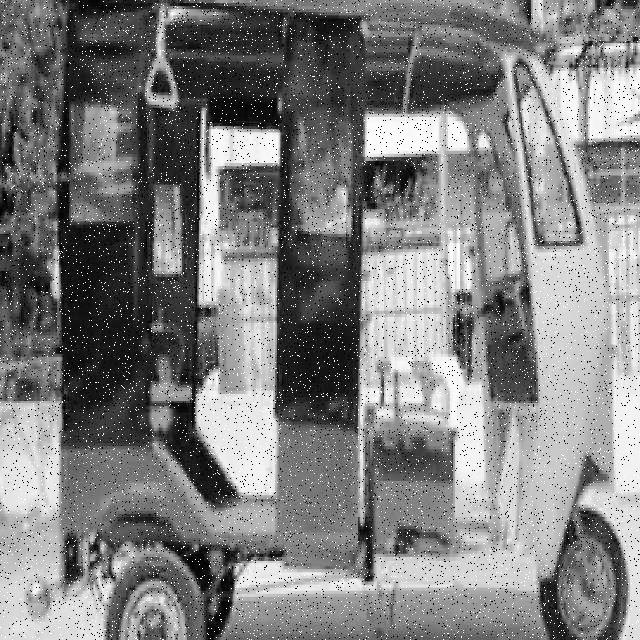Toto: (54, 0, 634, 640)
